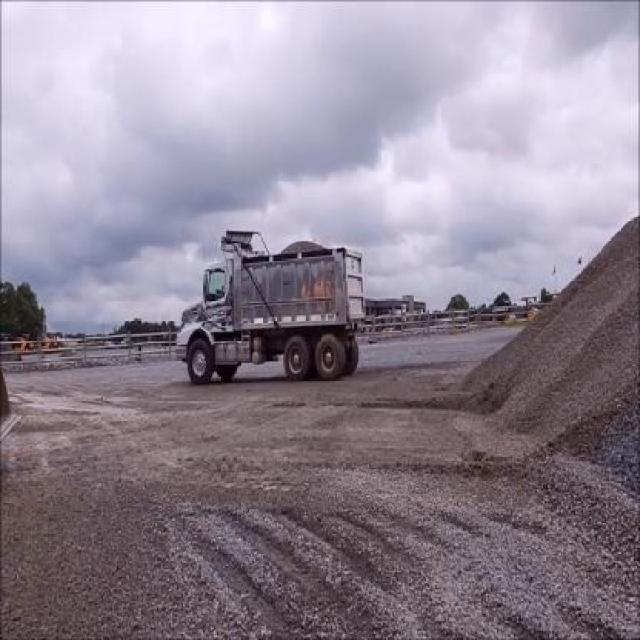dump_truck: (173, 229, 365, 385)
